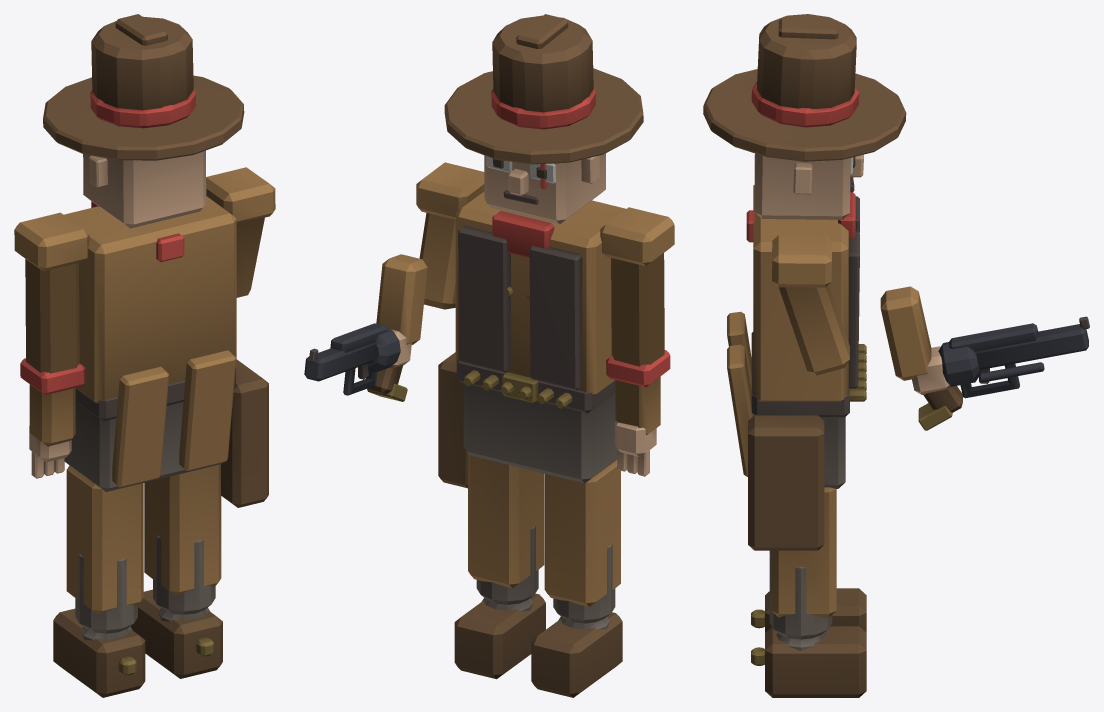
Rendered from cowboy_hero.glb.
The picture shows the model from 3 angles, left to right: view 1: azimuth 30°, elevation 25°; view 2: azimuth 150°, elevation 25°; view 3: azimuth 270°, elevation 25°; orthographic projection.
Visible parts, largest first — view 1: H_Torso, H_Hat, H_Leg_L, H_Pelvis, H_Leg_R, H_Sleeve_L, H_Head, H_CoatTail_R, H_CoatTail_L, H_Shin_L, H_Shin_R, H_Sleeve_R (+1 smaller); view 2: H_Torso, H_Hat, H_Pelvis, H_Leg_L, H_Leg_R, H_Sleeve_L, H_Head, H_Shin_L, H_Shin_R, H_Frame, H_Fore_R, H_Sleeve_R (+1 smaller); view 3: H_Hat, H_Torso, H_Pelvis, H_Frame, H_Shin_R, H_Leg_R, H_Head, H_Fore_R, H_Sleeve_R, H_CoatTail_R, H_Shin_L, H_CoatTail_L.
Boxes of the visible parts, left/top/right/bottom form: H_Torso: left=14, top=167, right=275, bottom=403; H_Hat: left=43, top=14, right=244, bottom=160; H_Leg_L: left=66, top=465, right=143, bottom=633; H_Pelvis: left=64, top=359, right=268, bottom=507; H_Leg_R: left=144, top=464, right=221, bottom=614; H_Sleeve_L: left=25, top=259, right=79, bottom=478; H_Head: left=83, top=150, right=206, bottom=228; H_CoatTail_R: left=179, top=350, right=236, bottom=470; H_CoatTail_L: left=112, top=366, right=168, bottom=487; H_Shin_L: left=53, top=608, right=145, bottom=697; H_Shin_R: left=130, top=589, right=222, bottom=678; H_Sleeve_R: left=236, top=217, right=264, bottom=297; H_Torso: left=416, top=162, right=674, bottom=395; H_Hat: left=444, top=14, right=643, bottom=164; H_Pelvis: left=438, top=352, right=617, bottom=488; H_Leg_L: left=544, top=460, right=620, bottom=623; H_Leg_R: left=468, top=453, right=544, bottom=604; H_Sleeve_L: left=611, top=253, right=664, bottom=476; H_Head: left=484, top=153, right=605, bottom=224; H_Shin_L: left=531, top=612, right=622, bottom=697; H_Shin_R: left=454, top=593, right=545, bottom=679; H_Frame: left=304, top=323, right=407, bottom=401; H_Fore_R: left=376, top=254, right=427, bottom=367; H_Sleeve_R: left=419, top=213, right=455, bottom=309; H_Hat: left=703, top=14, right=906, bottom=161; H_Torso: left=746, top=185, right=859, bottom=401; H_Pelvis: left=748, top=332, right=866, bottom=550; H_Frame: left=918, top=316, right=1089, bottom=430; H_Shin_R: left=751, top=626, right=866, bottom=697; H_Leg_R: left=769, top=487, right=836, bottom=639; H_Head: left=754, top=153, right=863, bottom=219; H_Fore_R: left=880, top=286, right=950, bottom=394; H_Sleeve_R: left=779, top=284, right=849, bottom=375; H_CoatTail_R: left=727, top=344, right=754, bottom=476; H_Shin_L: left=751, top=588, right=866, bottom=632; H_CoatTail_L: left=727, top=311, right=751, bottom=389.
Bounding box in the file's own units: 0.92 × 2.39 × 1.3.
